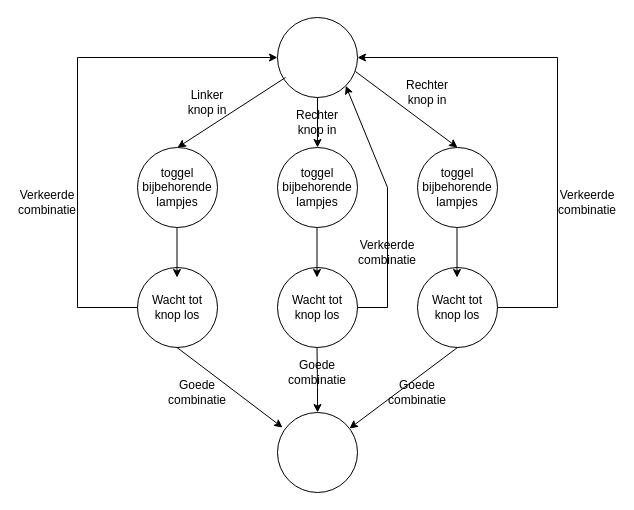
This 634x510 diagram has some shape labels left out. The shapes that lost their labels are listed below. From the top down, each one's centre as x and y in pixels, then its label:
pixel 317 57: Toon doel (goede combinatie lampjes)
pixel 317 452: Spel voorbij
